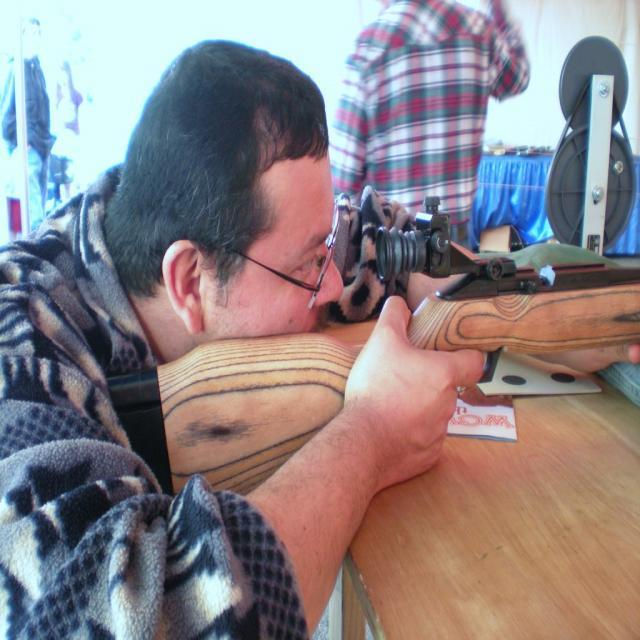weapon: (103, 193, 640, 498)
